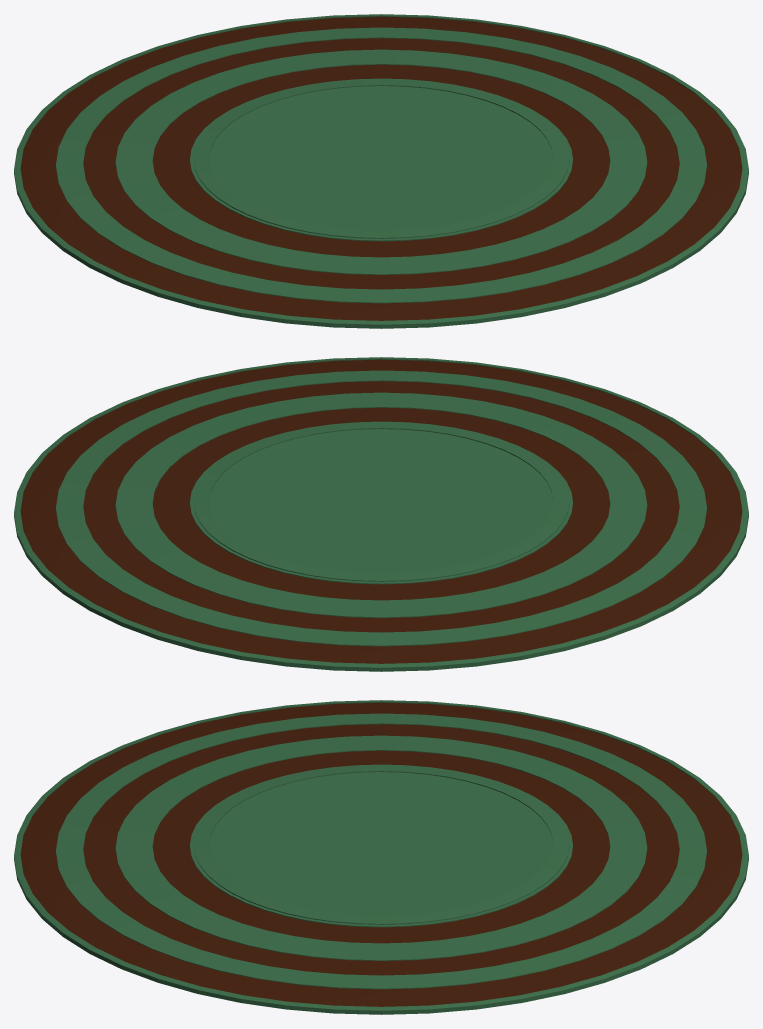
Rendered from Center Floor Piece.FBX.
The picture shows the model from 3 angles, top to bottom: view 1: azimuth 30°, elevation 25°; view 2: azimuth 150°, elevation 25°; view 3: azimuth 270°, elevation 25°; orthographic projection.
Visible parts, largest first — view 1: Sphere001; view 2: Sphere001; view 3: Sphere001.
Boxes of the visible parts, x1,y1,x2,y2 form: Sphere001: [14, 14, 748, 328]; Sphere001: [14, 357, 748, 671]; Sphere001: [14, 700, 748, 1014].
Size of the model in its own units: 5.73 by 0.1364 by 5.73.
